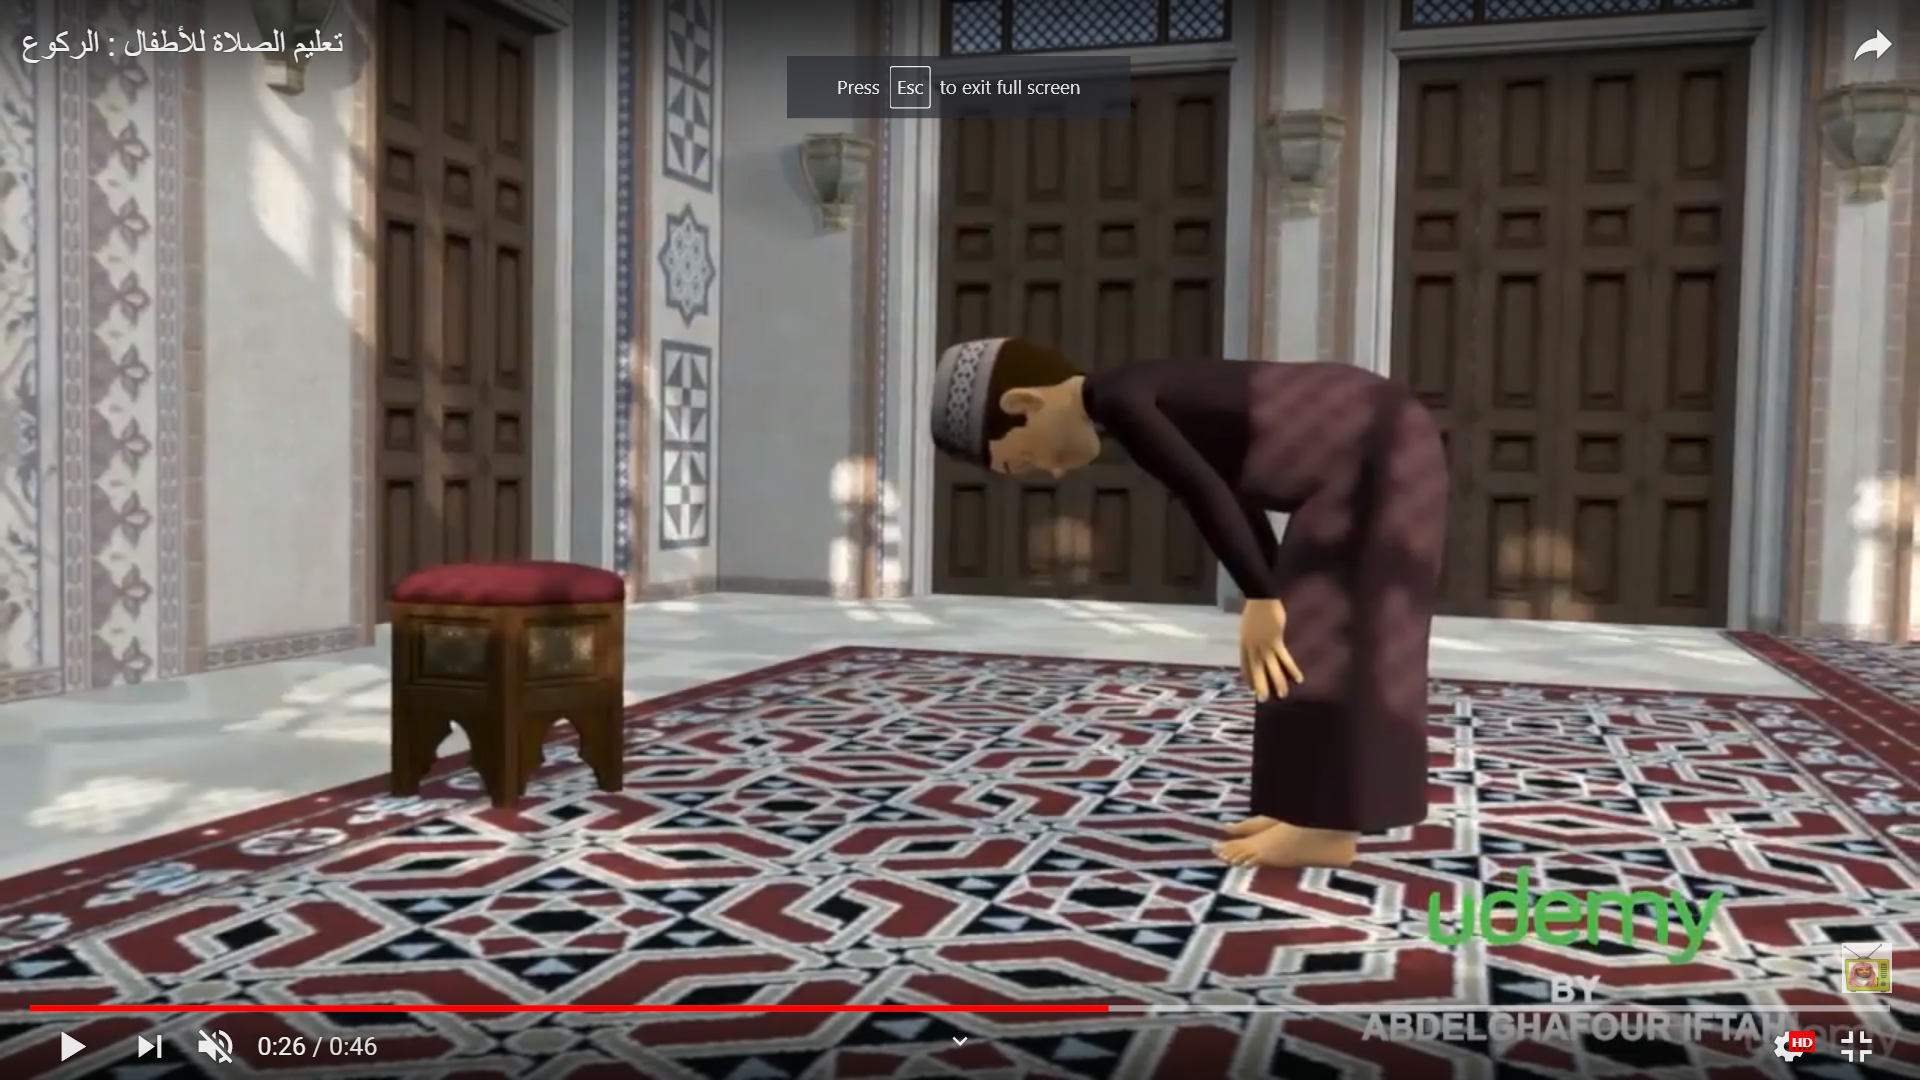ruku: (636, 243, 1659, 942)
